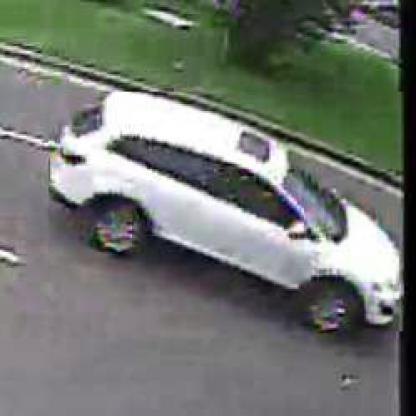car: (49, 93, 407, 334)
